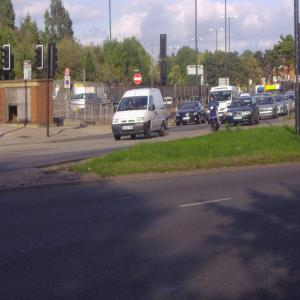Vehicle-registration-plate: (122, 127, 134, 131)
